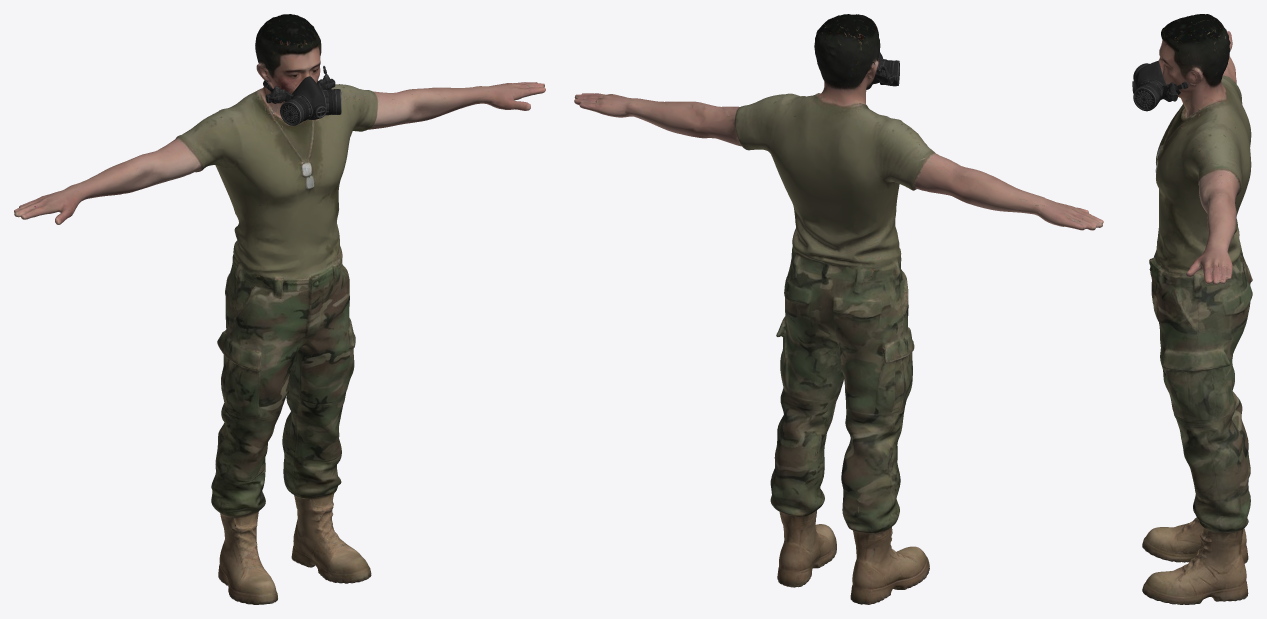
File: hajin.glb
The picture shows the model from 3 angles, left to right: view 1: azimuth 30°, elevation 25°; view 2: azimuth 150°, elevation 25°; view 3: azimuth 270°, elevation 25°; orthographic projection.
Visible parts, largest first — view 1: Mesh1.001; view 2: Mesh1.001; view 3: Mesh1.001.
Boxes of the visible parts, bbox=[...] form: Mesh1.001: bbox=[14, 14, 545, 604]; Mesh1.001: bbox=[574, 14, 1103, 604]; Mesh1.001: bbox=[1132, 14, 1252, 604].
Size of the model in its own units: 1.77 by 1.8 by 0.3503.
2 materials, 2 textured.
